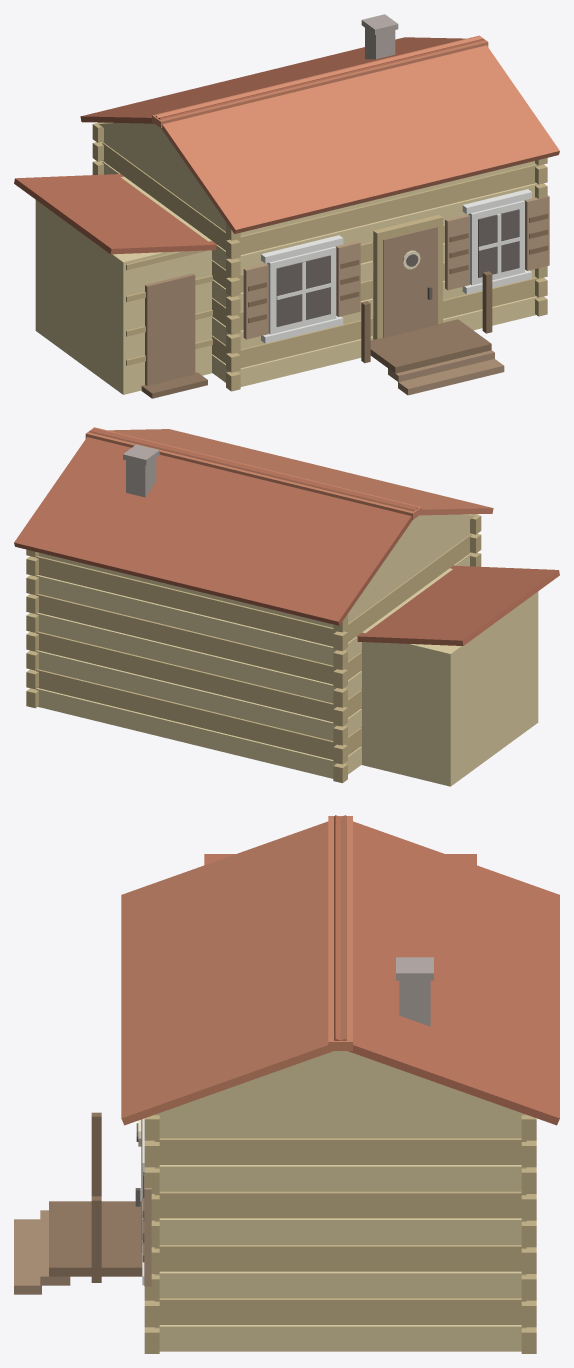
The model's file is grandma_house_v1.glb.
3 views of the same model, one above another, from view 1: azimuth 30°, elevation 25°; view 2: azimuth 150°, elevation 25°; view 3: azimuth 270°, elevation 25° (orthographic). The views are drawn at different scales.
Visible parts, largest first — view 1: Roof.-1, Seny, SenyRoof, Course.7, Roof.1, SenyDoor, Door, Course.1, Course.0, Porch, Course.8, Course.6 (+27 smaller); view 2: Roof.1, Seny, SenyRoof, Course.7, Roof.-1, Course.6, Course.0, Course.3, Course.5, Course.1, Course.4, Course.2 (+5 smaller); view 3: Roof.-1, Roof.1, Gable.1, Course.2, Course.5, Course.3, Course.6, Course.0, Course.1, Course.4, Course.7, Course.8 (+9 smaller).
Part boxes in pixels (box(x1,y1,x2,y2)): Roof.-1: box(156, 36, 559, 233); Seny: box(35, 176, 212, 394); SenyRoof: box(14, 174, 217, 254); Course.7: box(102, 142, 537, 254); Roof.1: box(80, 37, 484, 123); SenyDoor: box(145, 273, 195, 385); Door: box(383, 226, 437, 338); Course.1: box(212, 277, 537, 368); Course.0: box(212, 296, 537, 386); Porch: box(370, 319, 491, 373); Course.8: box(103, 128, 535, 235); Course.6: box(102, 161, 537, 273); Roof.1: box(14, 428, 417, 625); Seny: box(361, 568, 538, 786); SenyRoof: box(357, 565, 559, 645); Course.7: box(36, 534, 471, 646); Roof.-1: box(89, 429, 493, 515); Course.6: box(36, 553, 471, 665); Course.0: box(36, 688, 361, 778); Course.3: box(36, 631, 361, 722); Course.5: box(36, 593, 361, 684); Course.1: box(36, 669, 361, 759); Course.4: box(36, 612, 361, 703); Course.2: box(36, 650, 361, 740); Roof.-1: box(121, 815, 346, 1125); Roof.1: box(334, 815, 559, 1125); Gable.1: box(155, 1051, 526, 1114); Course.2: box(154, 1271, 526, 1298); Course.5: box(154, 1191, 526, 1218); Course.3: box(154, 1245, 526, 1271); Course.6: box(154, 1165, 526, 1191); Course.0: box(154, 1325, 526, 1351); Course.1: box(154, 1298, 526, 1324); Course.4: box(154, 1218, 526, 1244); Course.7: box(154, 1138, 526, 1164); Course.8: box(155, 1115, 526, 1138).
Size of the model in its own units: 8.32 by 4.56 by 6.6.
